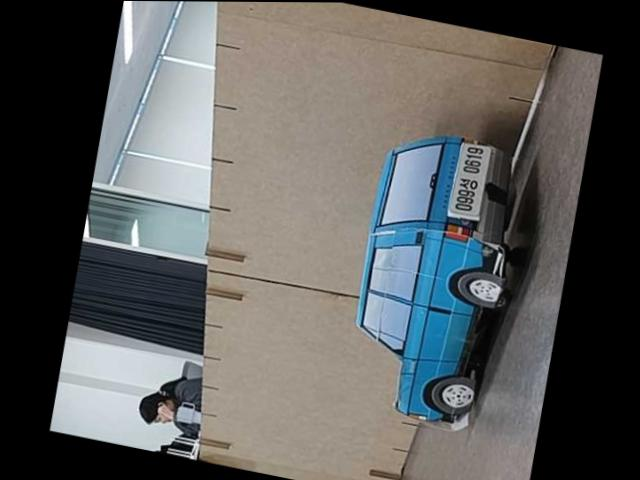car: (335, 123, 537, 431)
id: (443, 139, 490, 217)
